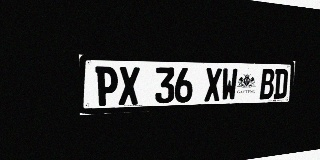3: (155, 67, 175, 104)
6: (174, 67, 193, 103)
B: (260, 69, 275, 99)
D: (273, 69, 288, 99)
P: (95, 66, 118, 106)
W: (221, 68, 238, 101)
X: (119, 67, 140, 105), (204, 68, 222, 102)
